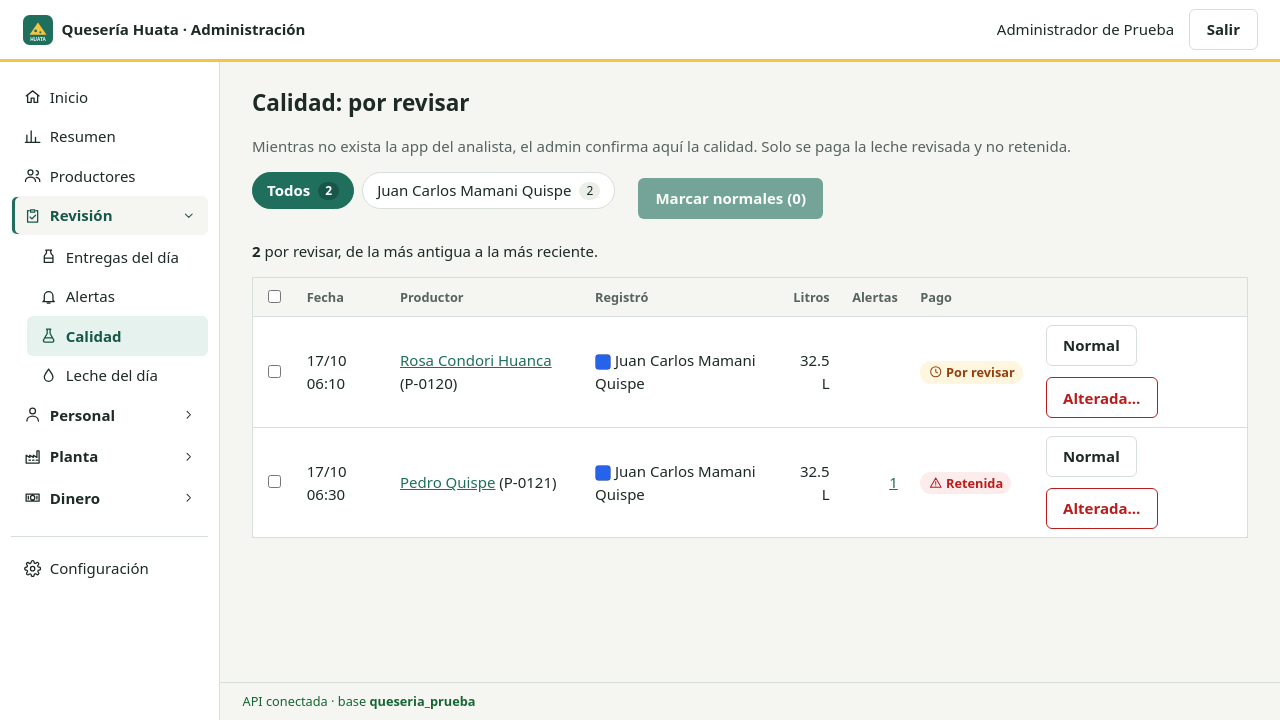
calidad: por revisar › si alguna falla, se informa y queda en la lista; las demás se revisan
Expected: the link "Rosa Condori Huanca" is shown, [400,350,552,370]
Click the checkbox named "Seleccionar todas las visibles". click: click(275, 296)
box: [268,290,281,302]
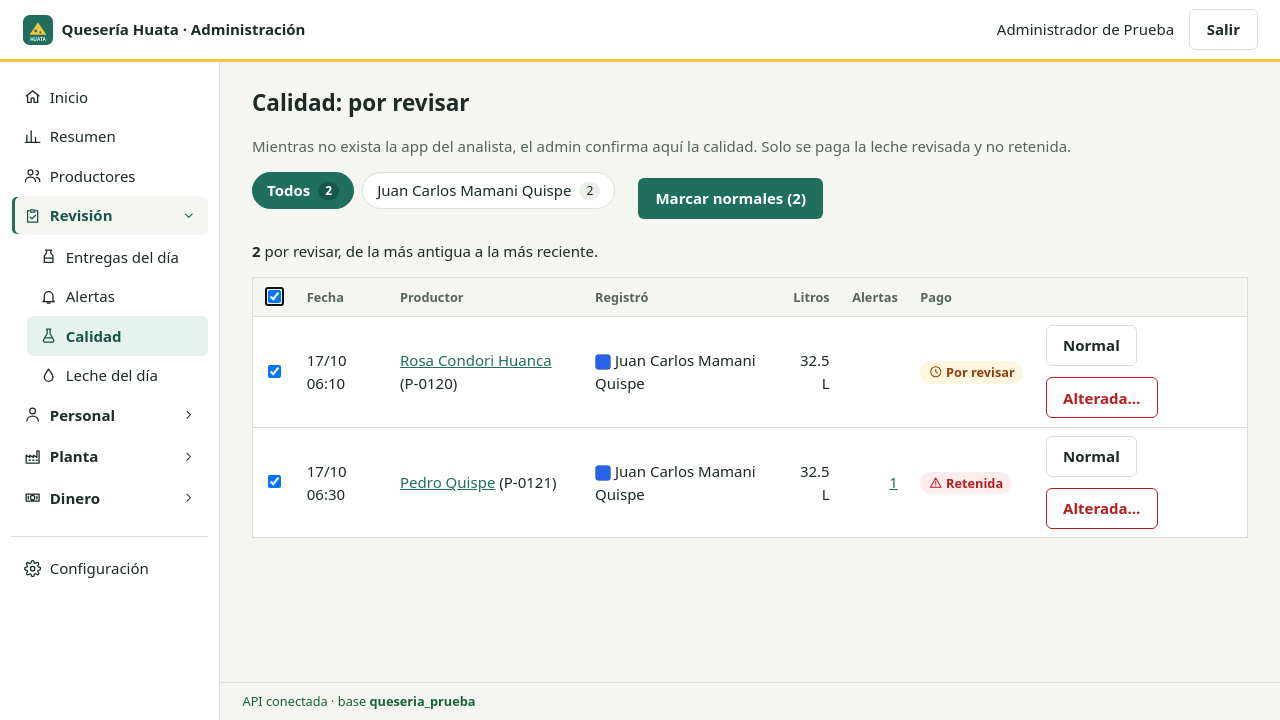
Click the button "Marcar normales (2)". click: click(731, 198)
box: [638,178,824,219]
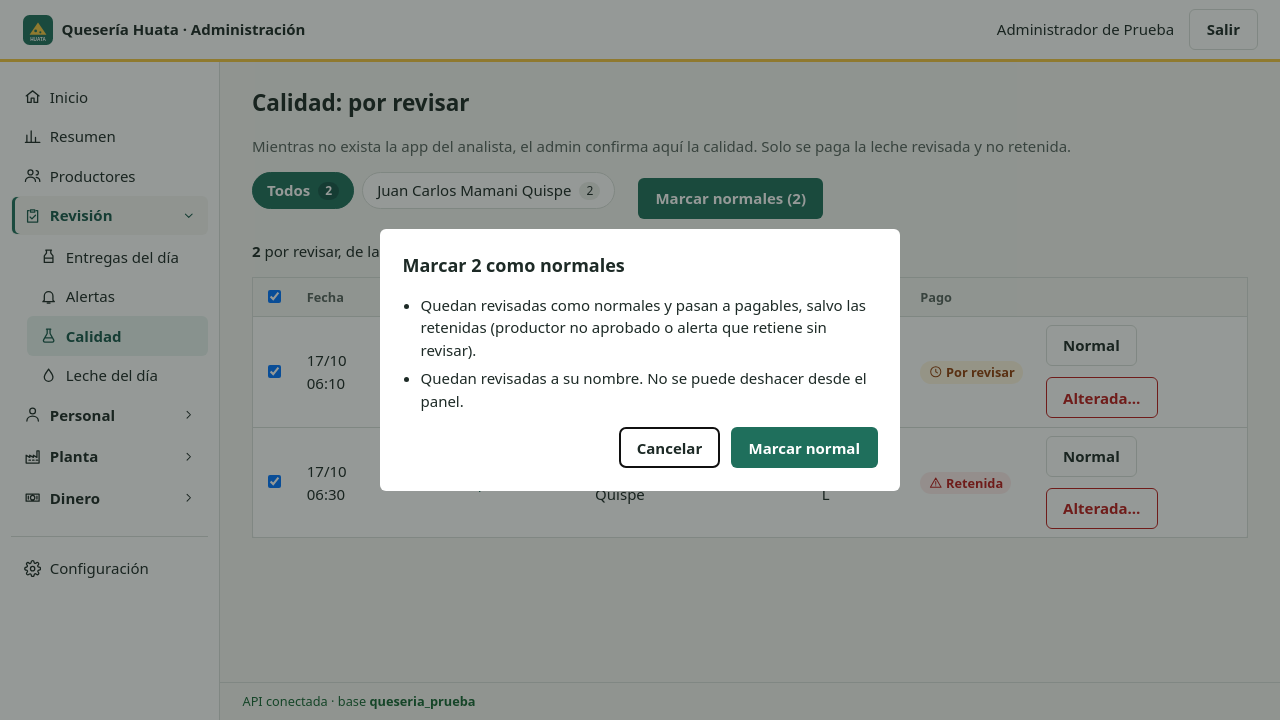
Click the button "Marcar normal". click: click(804, 448)
box: [731,427,878,468]
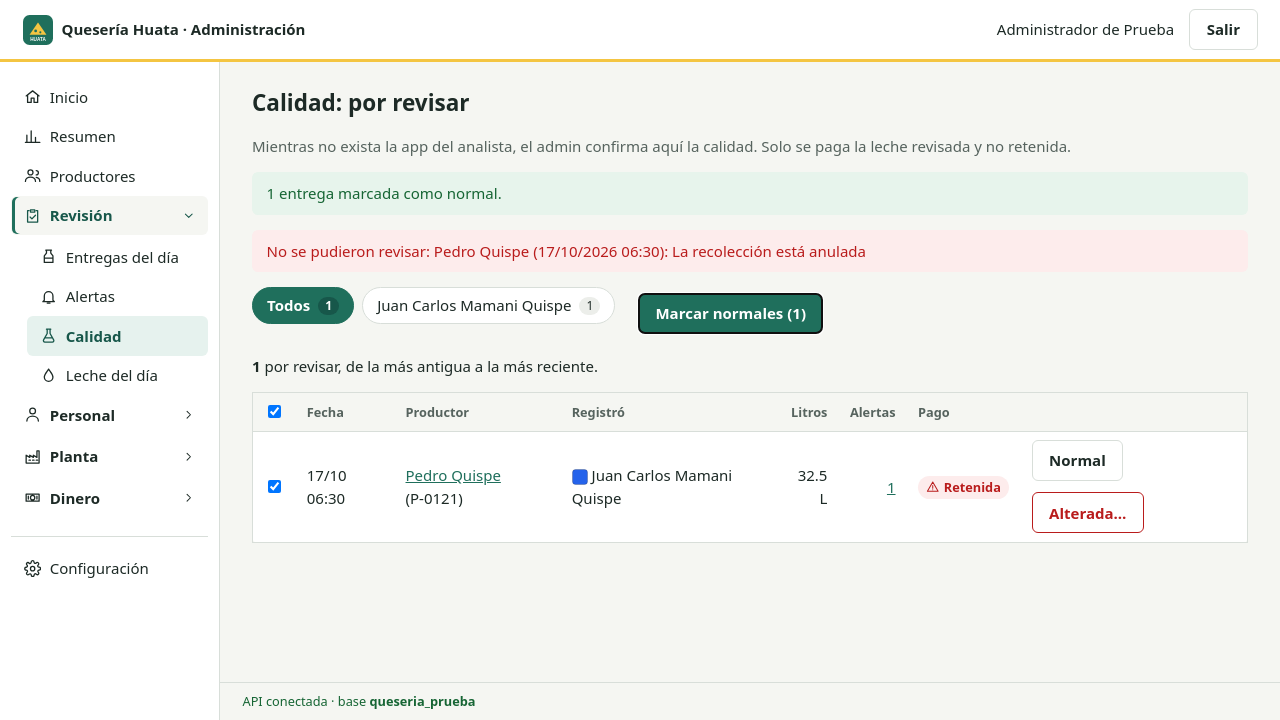
Expected: the 2nd message shows "No se pudieron revisar: Pedro Quispe (17/10/2026 06:30): La recolección está anulada", [266,241,866,261]
Expected: the message "1 entrega marcada como normal." is shown, [252,172,1248,215]
